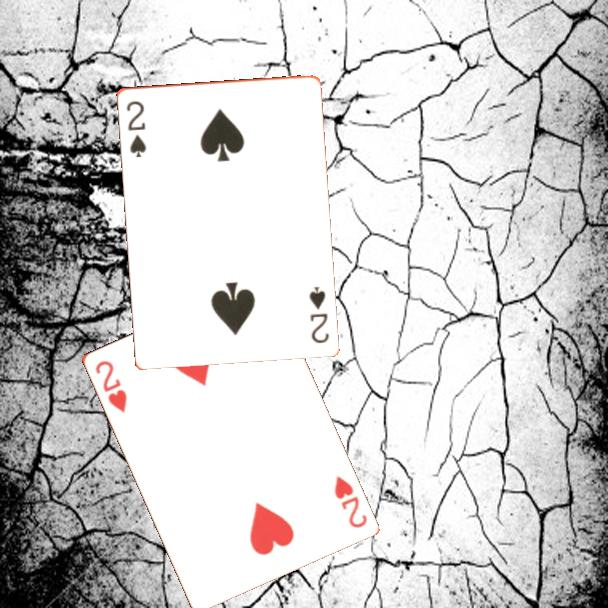h02: (330, 472, 370, 531), (91, 357, 129, 416)
s02: (305, 283, 332, 346), (123, 97, 149, 160)
